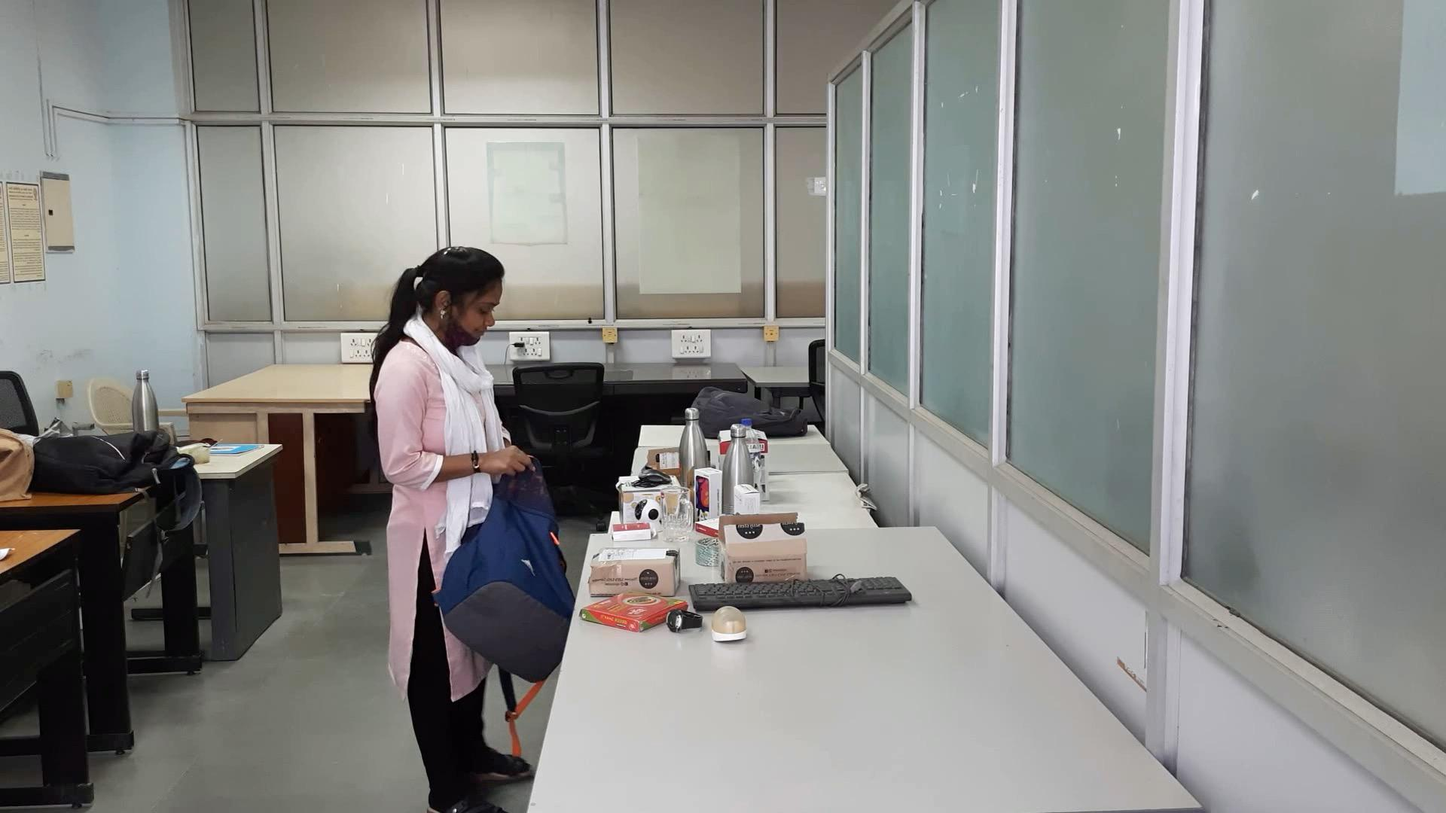shoplifting: (324, 395, 715, 705)
